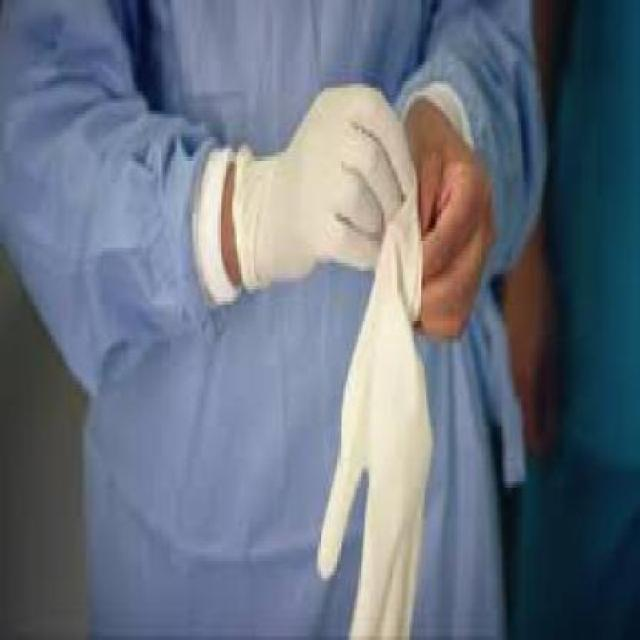B3: (318, 206, 454, 636), (232, 84, 417, 293)
